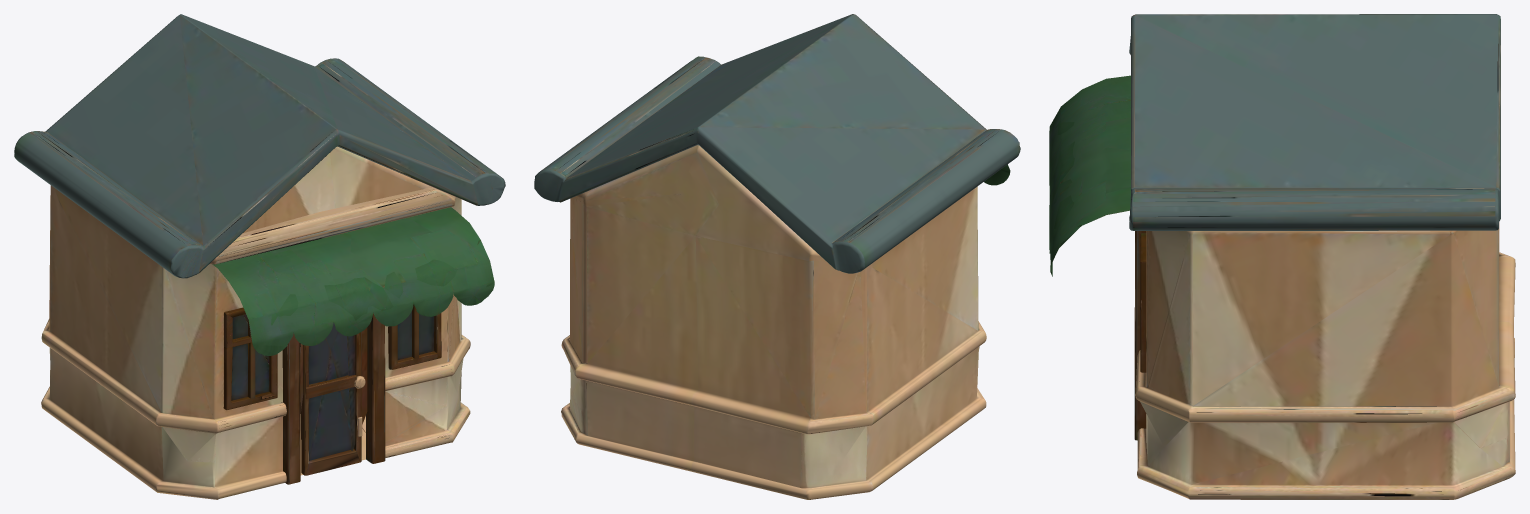
The model's file is cafe.glb.
3 renders of one model, left to right at view 1: azimuth 30°, elevation 25°; view 2: azimuth 150°, elevation 25°; view 3: azimuth 270°, elevation 25°, orthographic. The views are drawn at different scales.
Parts seen in each view (by area): view 1: geometry_0; view 2: geometry_0; view 3: geometry_0.
Part boxes in pixels (x1,y1,x2,y2): geometry_0: (14,14,505,499); geometry_0: (534,14,1020,499); geometry_0: (1049,14,1515,499).
Bounding box in the file's own units: 0.9165 × 0.8989 × 0.9531.
Materials: 1 (1 with a texture image).
